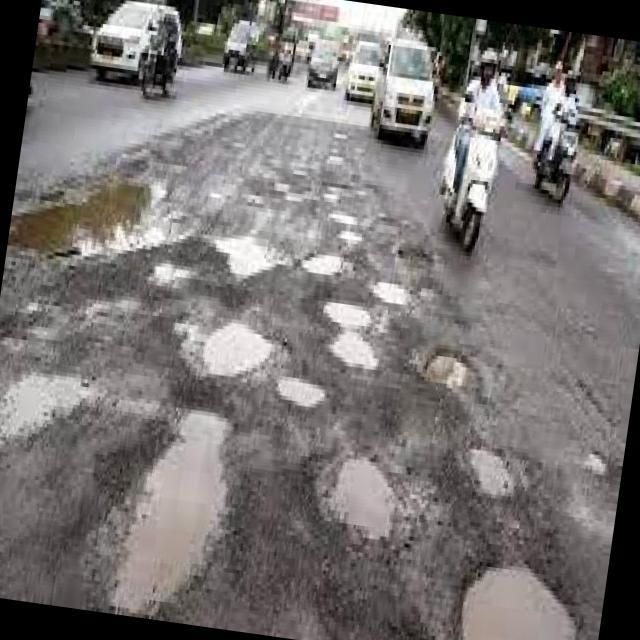Pothole: (113, 410, 230, 619), (463, 566, 571, 640), (335, 459, 391, 534), (202, 322, 275, 378), (418, 347, 480, 410), (470, 449, 509, 497)
